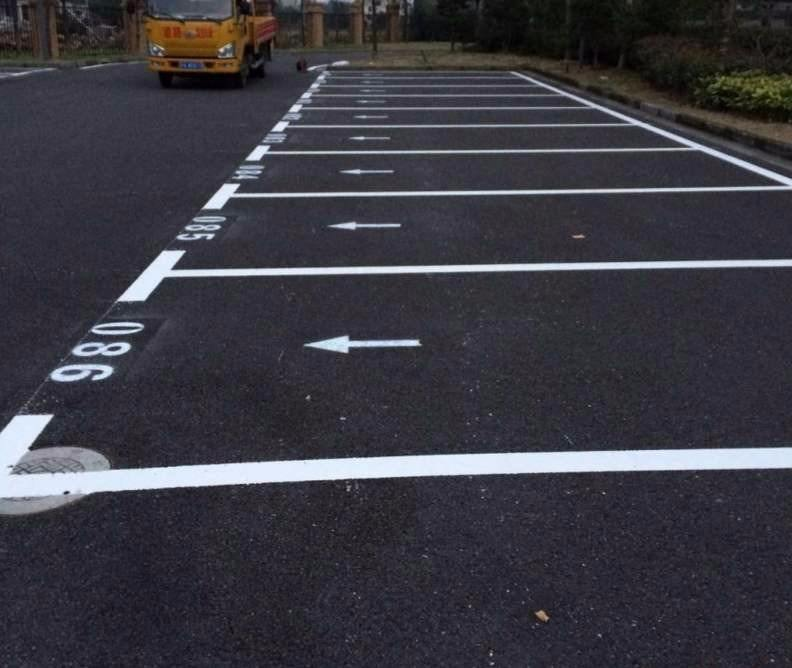slot_nocar: (3, 233, 792, 503), (137, 169, 792, 286), (206, 137, 791, 202), (250, 115, 704, 157), (279, 102, 647, 131), (299, 84, 597, 112), (312, 69, 549, 90)
